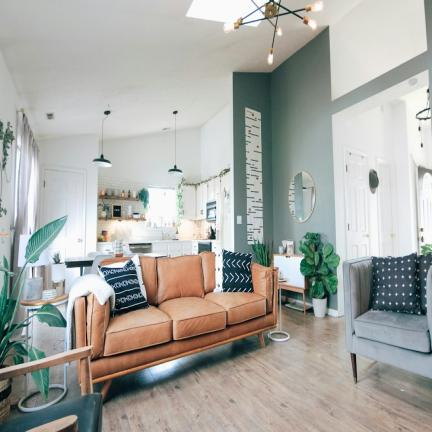book: (274, 254, 308, 315), (182, 183, 207, 219), (152, 242, 197, 256), (289, 304, 294, 306)
carpet: (343, 256, 432, 382), (0, 346, 102, 431), (427, 267, 432, 297), (412, 275, 416, 287), (421, 270, 426, 279), (409, 266, 414, 269), (392, 275, 394, 280), (413, 270, 416, 272), (398, 270, 400, 273), (420, 258, 423, 260), (380, 258, 383, 260), (423, 282, 424, 286), (399, 266, 403, 267), (394, 266, 396, 268), (393, 258, 394, 260)
chair: (15, 114, 39, 236)
curtain: (42, 168, 85, 260), (345, 150, 370, 258), (377, 157, 398, 255)
door: (102, 308, 432, 431), (69, 363, 80, 396), (94, 384, 99, 391), (67, 396, 69, 398)
floor: (112, 204, 121, 218), (123, 204, 132, 218), (282, 242, 289, 253)
lemon: (206, 201, 216, 221)
person: (0, 216, 67, 365), (300, 233, 340, 316), (177, 178, 195, 218), (35, 305, 66, 326), (252, 240, 272, 266), (33, 368, 49, 398), (138, 188, 149, 211), (98, 199, 110, 219), (51, 251, 60, 264), (0, 402, 9, 414), (0, 414, 6, 423), (0, 378, 9, 384), (321, 303, 325, 315), (3, 387, 6, 389), (0, 385, 2, 388), (3, 383, 5, 386), (2, 369, 3, 371)
pot: (237, 216, 241, 223)
vegetables: (231, 28, 337, 252), (29, 119, 97, 255), (0, 53, 29, 138), (0, 142, 19, 234), (0, 238, 11, 259), (329, 295, 341, 311), (36, 197, 41, 227), (338, 204, 343, 213), (0, 141, 2, 159), (38, 183, 41, 191), (60, 213, 65, 216), (339, 252, 341, 259), (18, 228, 20, 233), (67, 213, 70, 216), (339, 290, 341, 293), (38, 176, 40, 179), (277, 40, 281, 41), (19, 175, 20, 179), (284, 34, 287, 35), (49, 219, 52, 220), (68, 217, 69, 220)
wall: (146, 187, 176, 226)
